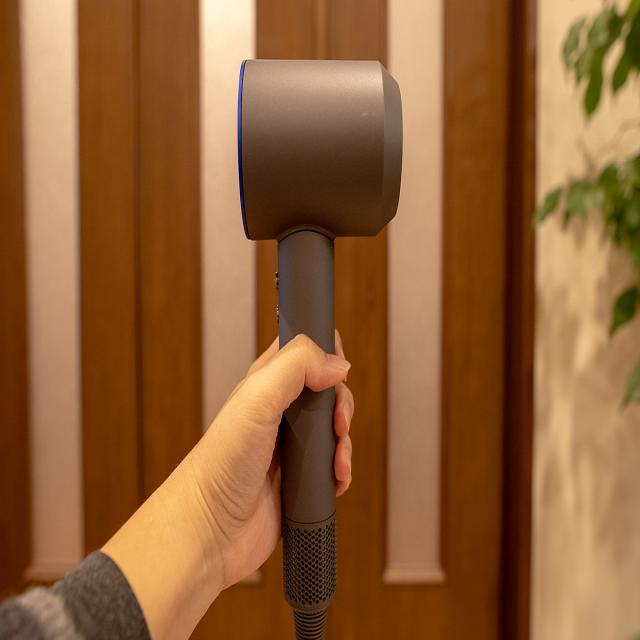dryer: (237, 57, 403, 640)
